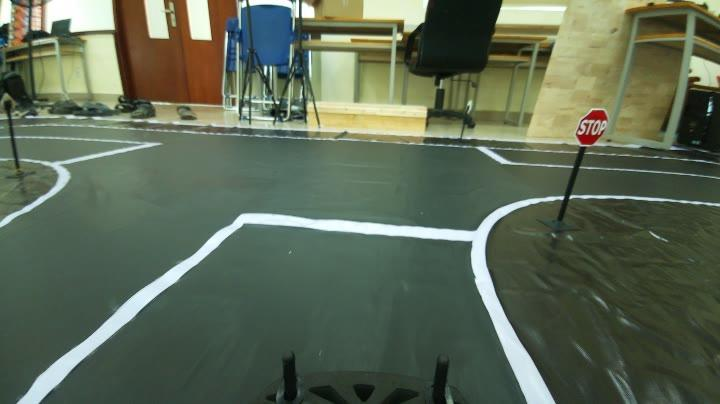stop: (572, 108, 614, 148)
